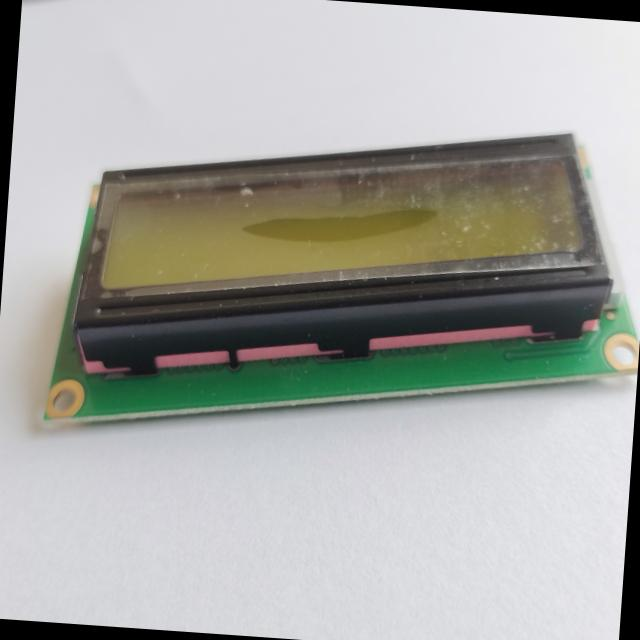lcd: (41, 94, 640, 464)
